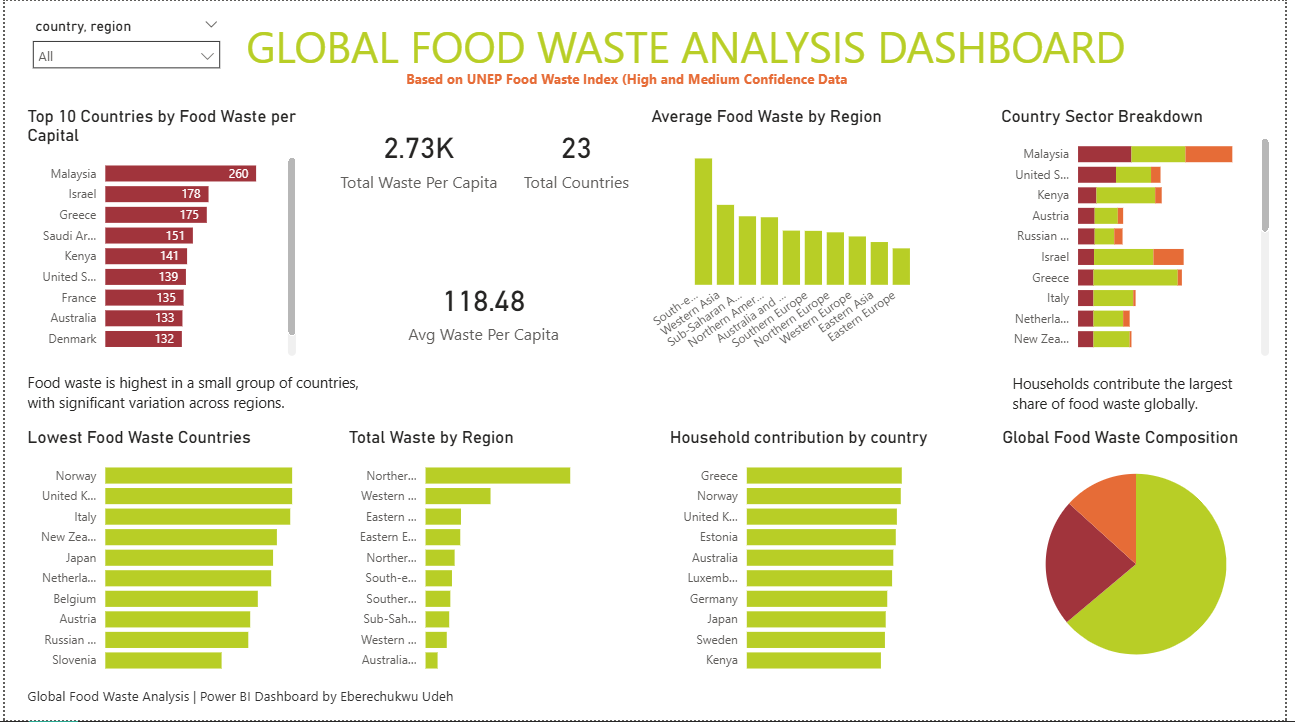

This screenshot's page, from the dashboard's own definition file:
{"tool":"powerbi","page":{"name":"Page 1","canvas":[1280,720],"ordinal":0},"visuals":[{"type":"barChart","title":"Top 10 Countries by Food Waste per Capital ","fields":{"Y":["Avg(vw_top_countries.combined_kg_per_capita)"],"Category":["vw_top_countries.country"]},"box":[17.4,104.5,278.6,255],"z":0},{"type":"barChart","title":"Lowest Food Waste Countries","fields":{"Y":["Avg(vw_bottom_countries.combined_kg_per_capita)"],"Category":["vw_bottom_countries.country"]},"box":[17.4,426.7,278.6,255],"z":1000},{"type":"columnChart","title":"Average Food Waste by Region","fields":{"Y":["Avg(vw_region_analysis.avg_waste_per_capita)"],"Category":["vw_region_analysis.region"]},"box":[640.6,104.5,278,255],"z":2000},{"type":"barChart","title":"Total Waste by Region","fields":{"Category":["vw_region_total_waste.region"],"Y":["Avg(vw_region_total_waste.total_waste_tonnes)"]},"box":[338.9,426.7,278,255],"z":3000},{"type":"pieChart","title":"Global Food Waste Composition","fields":{"Y":["Avg(vw_global_sector_breakdown.household)","Avg(vw_global_sector_breakdown.food_service)","Avg(vw_global_sector_breakdown.retail)"]},"box":[992,426.7,277.4,255],"z":4000},{"type":"barChart","title":"Country Sector Breakdown","fields":{"Category":["vw_country_sector_breakdown.country"],"Y":["Avg(vw_country_sector_breakdown.food_service_kg_per_capita)","Avg(vw_country_sector_breakdown.household_kg_per_capita)","Avg(vw_country_sector_breakdown.retail_kg_per_capita)"]},"box":[991.4,104.5,278,255],"z":5000},{"type":"barChart","title":"Household contribution by country","fields":{"Category":["vw_top_household_countries.country"],"Y":["Avg(vw_top_household_countries.household_percentage)"]},"box":[659.7,426.7,278,255],"z":6000},{"type":"textbox","box":[206.5,11.2,949.1,75.9],"z":7000},{"type":"slicer","fields":{"Values":["vw_country_sector_breakdown.country","vw_region_analysis.region"]},"box":[17.4,11.2,207.7,82.1],"z":8000},{"type":"textbox","box":[17.4,366.3,352,53.5],"z":9000},{"type":"textbox","box":[1002,367.6,267.5,51],"z":10000},{"type":"textbox","box":[396.8,63.4,465.2,29.9],"z":11000},{"type":"card","fields":{"Values":["vw_bottom_countries.Avg Waste Per Capita"]},"box":[396.8,257.5,165,102],"z":12000},{"type":"card","fields":{"Values":["vw_bottom_countries.Total Countries"]},"box":[513.8,104.5,115.7,102],"z":13000},{"type":"card","fields":{"Values":["vw_bottom_countries.Total Waste Index"]},"box":[329.6,104.5,168,102],"z":14000},{"type":"textbox","box":[17.4,681.7,461.5,27.4],"z":14001}]}

Visuals, with their boxes in screenshot pixels (x1, y1, x2, y2), scaled from the page's 1280x720 canvas onto the 1295x722 screenshot:
"Top 10 Countries by Food Waste per Capital " barChart: {"x1": 18, "y1": 105, "x2": 299, "y2": 360}
"Lowest Food Waste Countries" barChart: {"x1": 18, "y1": 428, "x2": 299, "y2": 684}
"Average Food Waste by Region" columnChart: {"x1": 648, "y1": 105, "x2": 929, "y2": 360}
"Total Waste by Region" barChart: {"x1": 343, "y1": 428, "x2": 624, "y2": 684}
"Global Food Waste Composition" pieChart: {"x1": 1004, "y1": 428, "x2": 1284, "y2": 684}
"Country Sector Breakdown" barChart: {"x1": 1003, "y1": 105, "x2": 1284, "y2": 360}
"Household contribution by country" barChart: {"x1": 667, "y1": 428, "x2": 949, "y2": 684}
textbox: {"x1": 209, "y1": 11, "x2": 1169, "y2": 87}
slicer - vw_country_sector_breakdown.country x vw_region_analysis.region: {"x1": 18, "y1": 11, "x2": 228, "y2": 94}
textbox: {"x1": 18, "y1": 367, "x2": 374, "y2": 421}
textbox: {"x1": 1014, "y1": 369, "x2": 1284, "y2": 420}
textbox: {"x1": 401, "y1": 64, "x2": 872, "y2": 94}
card - vw_bottom_countries.Avg Waste Per Capita: {"x1": 401, "y1": 258, "x2": 568, "y2": 360}
card - vw_bottom_countries.Total Countries: {"x1": 520, "y1": 105, "x2": 637, "y2": 207}
card - vw_bottom_countries.Total Waste Index: {"x1": 333, "y1": 105, "x2": 503, "y2": 207}
textbox: {"x1": 18, "y1": 684, "x2": 485, "y2": 711}
